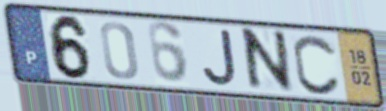0: (98, 20, 141, 82)
6: (47, 12, 97, 82), (148, 18, 191, 90)
C: (291, 32, 343, 98)
J: (201, 28, 240, 88)
N: (242, 26, 296, 95)
